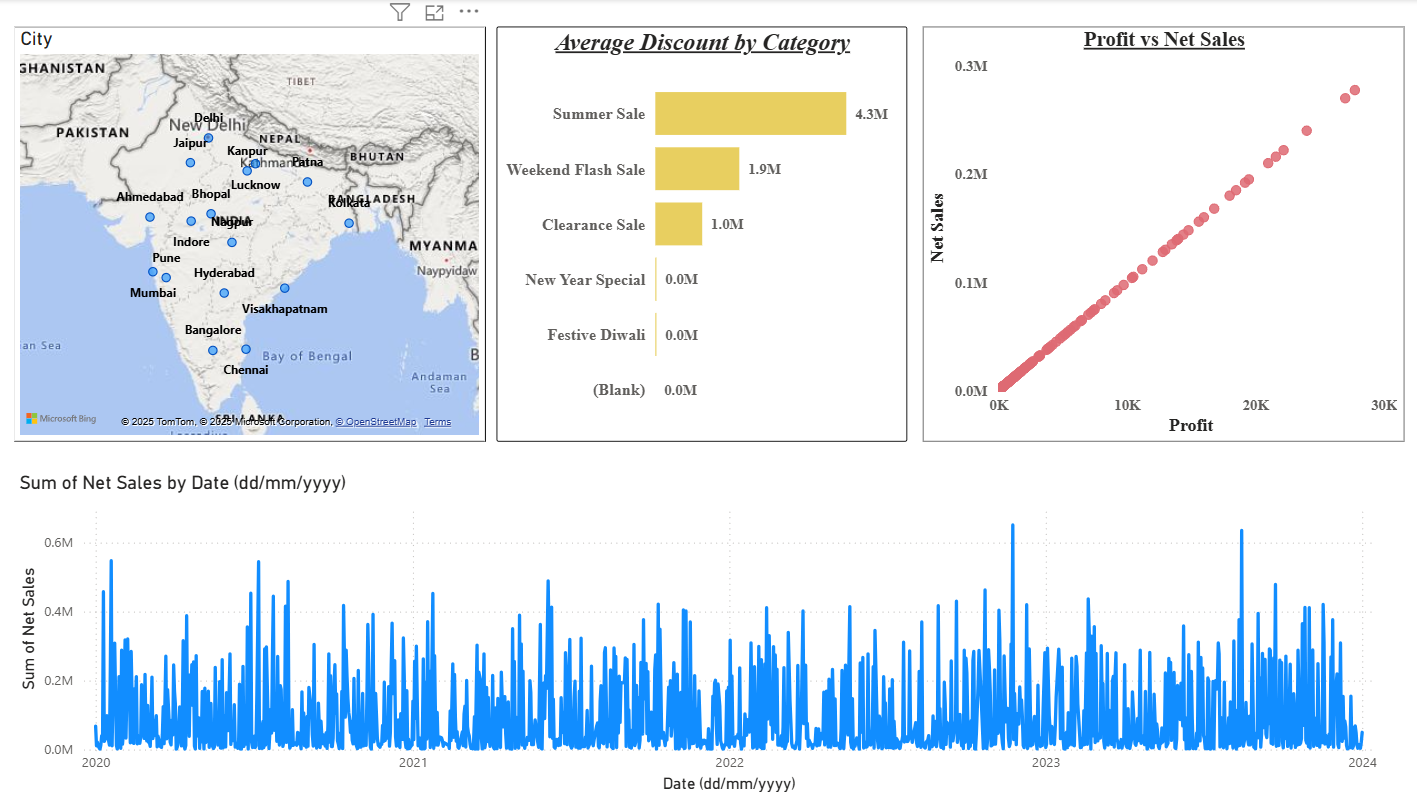

The dashboard page shown, as its layout file describes it:
{"tool":"powerbi","page":{"name":"OverView","canvas":[1280,720],"ordinal":1},"visuals":[{"type":"scatterChart","title":"Profit vs Net Sales ","fields":{"Y":["Fact Table.Net Sales "],"X":["Fact Table.Profit"]},"box":[832.7,24.5,434.1,374.2],"z":0},{"type":"barChart","title":"Average Discount by Category","fields":{"Category":["Dim Promotion.Promotion Name"],"Y":["Sum(Fact Table.Discount)"]},"box":[448.7,24.7,370.5,374.6],"z":1000},{"type":"map","fields":{"Category":["Dim Customers.City"]},"box":[13.5,24.5,425.5,374.2],"z":2000},{"type":"lineChart","fields":{"Y":["Sum(Fact Table.Net Sales )"],"Category":["Fact Table.Date (dd/mm/yyyy)"]},"box":[13.5,425.5,1233.8,294.7],"z":3000}]}

Visuals, with their boxes in screenshot pixels (x1, y1, x2, y2), scaled from the page's 1280x720 canvas onto the 1417x792 screenshot:
"Profit vs Net Sales " scatterChart: [x1=922, y1=27, x2=1402, y2=439]
"Average Discount by Category" barChart: [x1=497, y1=27, x2=907, y2=439]
map - Dim Customers.City: [x1=15, y1=27, x2=486, y2=439]
lineChart - Sum(Fact Table.Net Sales ) x Fact Table.Date (dd/mm/yyyy): [x1=15, y1=468, x2=1381, y2=791]
